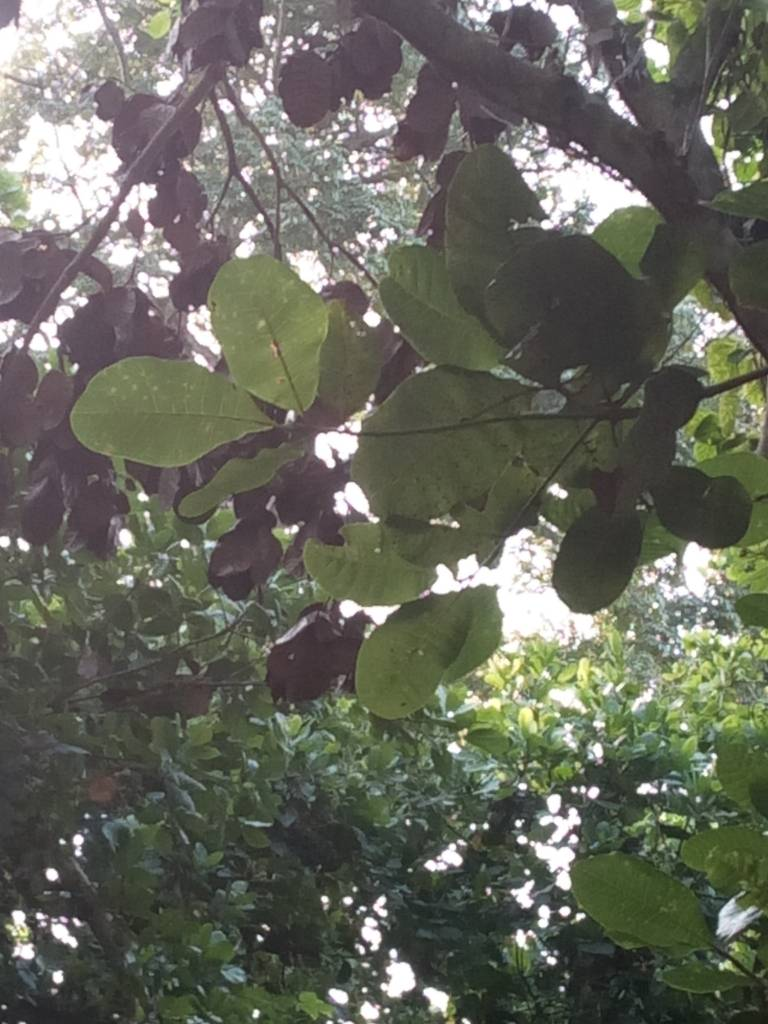Anthracnose: (354, 372, 532, 513), (475, 235, 652, 358), (552, 503, 647, 614), (618, 364, 702, 485)
